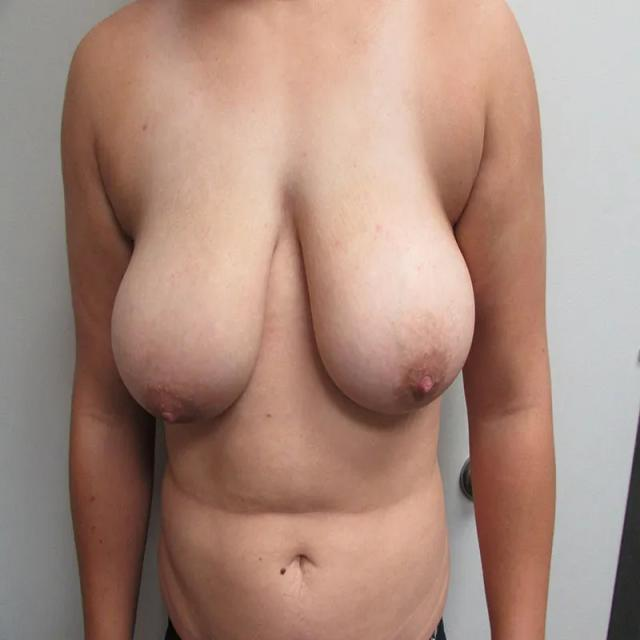Seno ileso: (292, 133, 480, 434), (106, 132, 283, 442)
